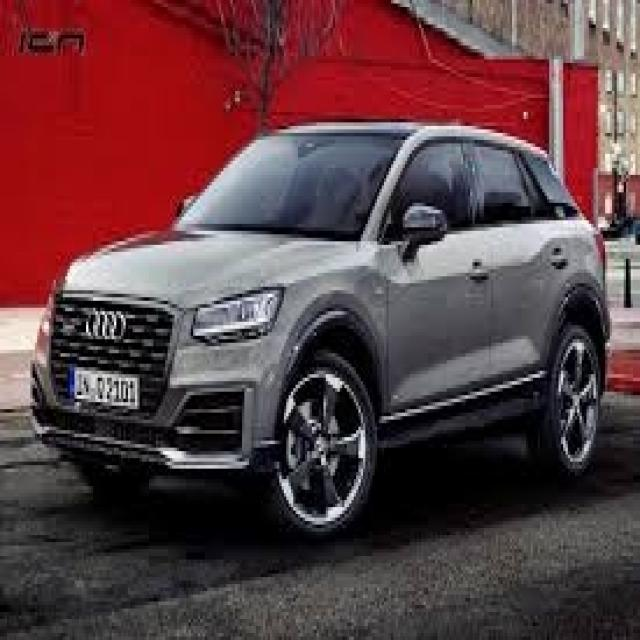black: (37, 120, 605, 536)
